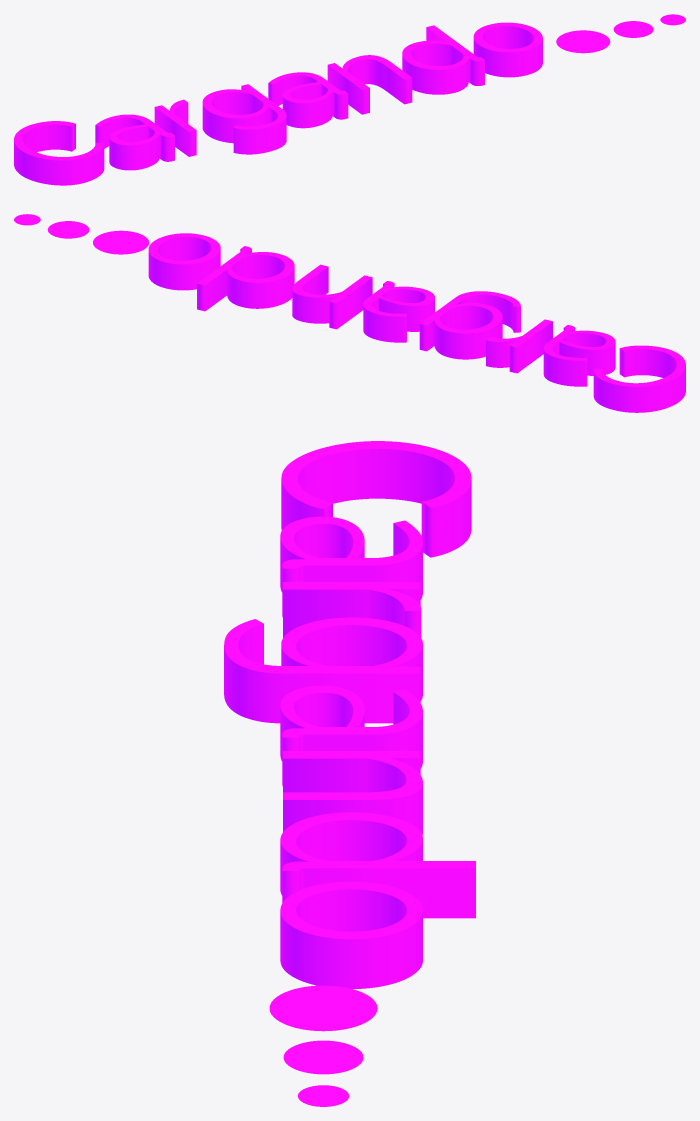
Rendered from loading.glb.
The picture shows the model from 3 angles, top to bottom: view 1: azimuth 30°, elevation 25°; view 2: azimuth 150°, elevation 25°; view 3: azimuth 270°, elevation 25°; orthographic projection. The views are drawn at different scales.
Parts seen in each view (by area): view 1: Text.004, Text.001, Text.002; view 2: Text.004, Text.001, Text.002; view 3: Text.004, Text.001, Text.002.
Boxes of the visible parts, x1,y1,x2,y2 form: Text.004: (14, 22, 542, 185); Text.001: (556, 30, 610, 53); Text.002: (613, 21, 653, 37); Text.004: (148, 233, 685, 412); Text.001: (93, 230, 149, 254); Text.002: (47, 221, 89, 238); Text.004: (224, 441, 475, 988); Text.001: (269, 985, 377, 1031); Text.002: (283, 1040, 363, 1074).
Size of the model in its own units: 3.5 by 0.1283 by 0.5875.
